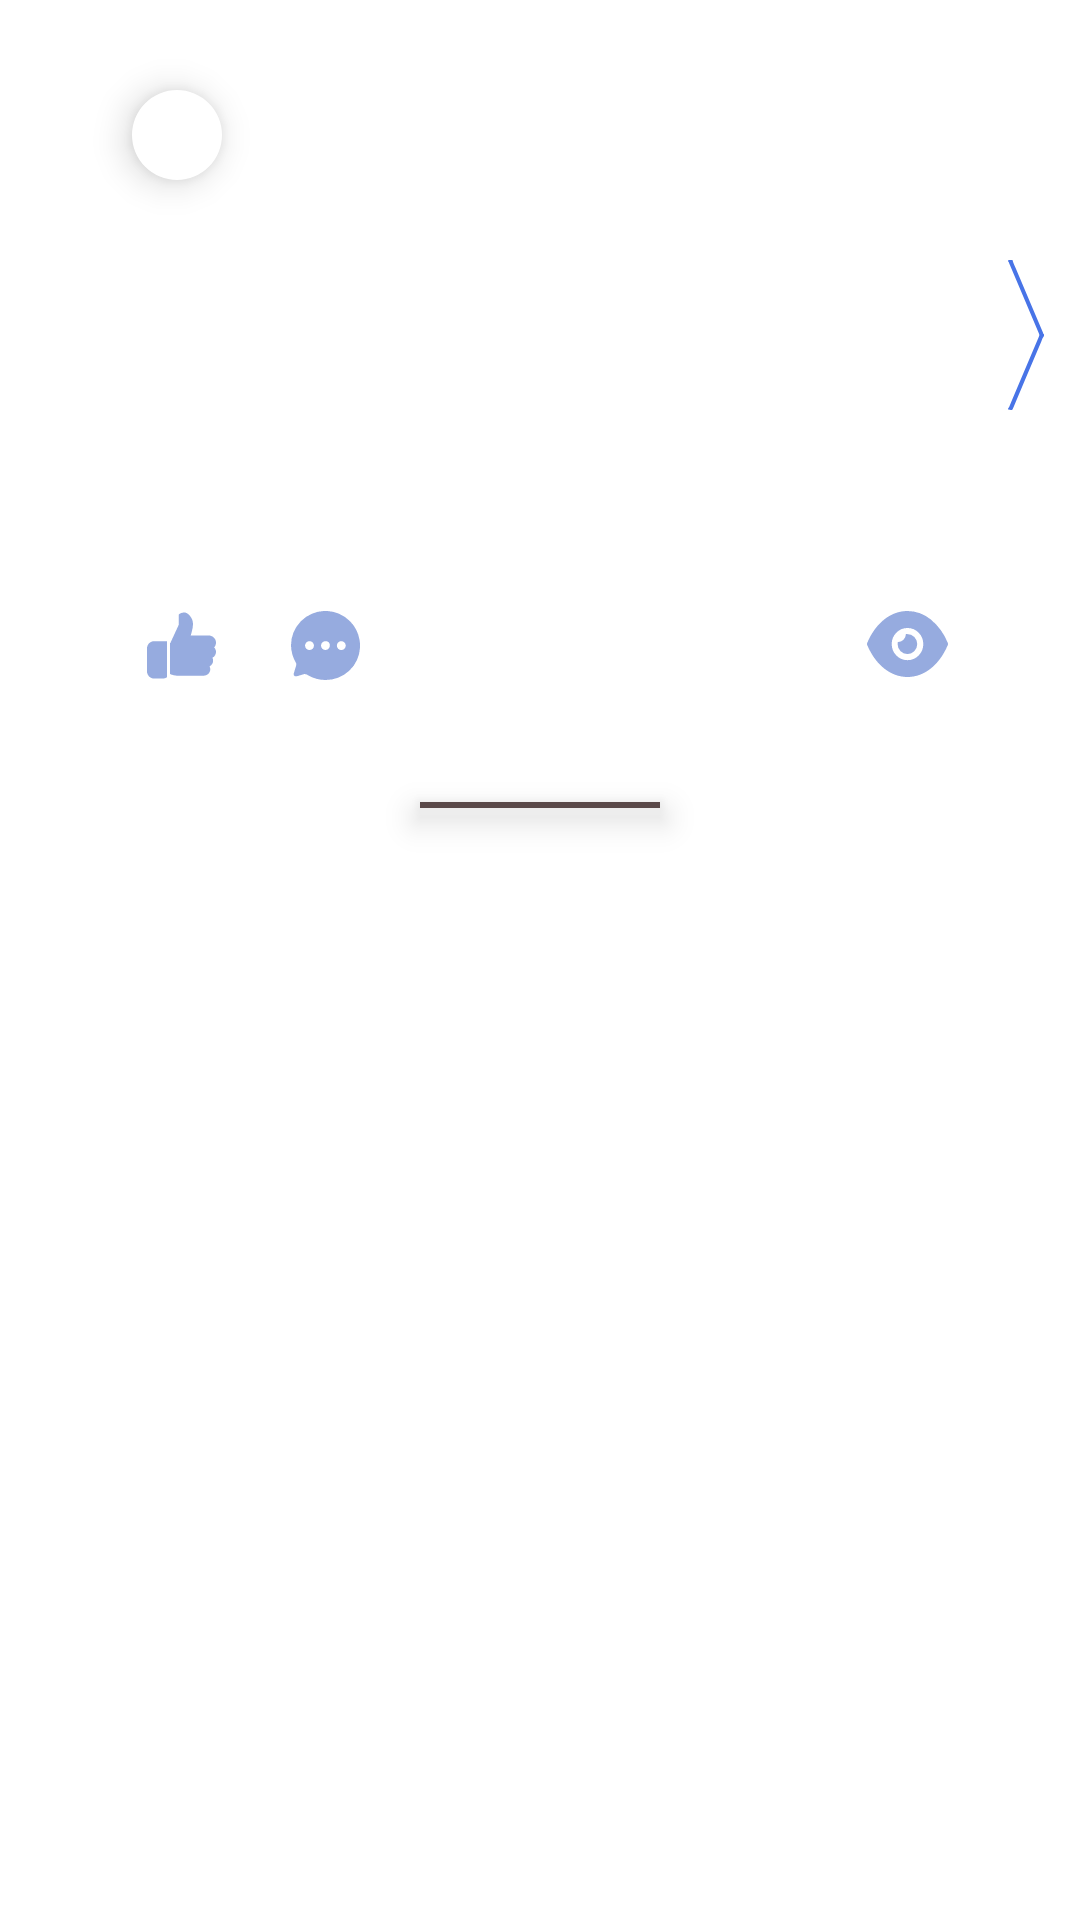

Where to tap for icons on this 1080w x 1920h app screen, as (x=x, y=y):
comment: (x=325, y=645)
like unpressed: (x=181, y=645)
seen: (x=907, y=644)
